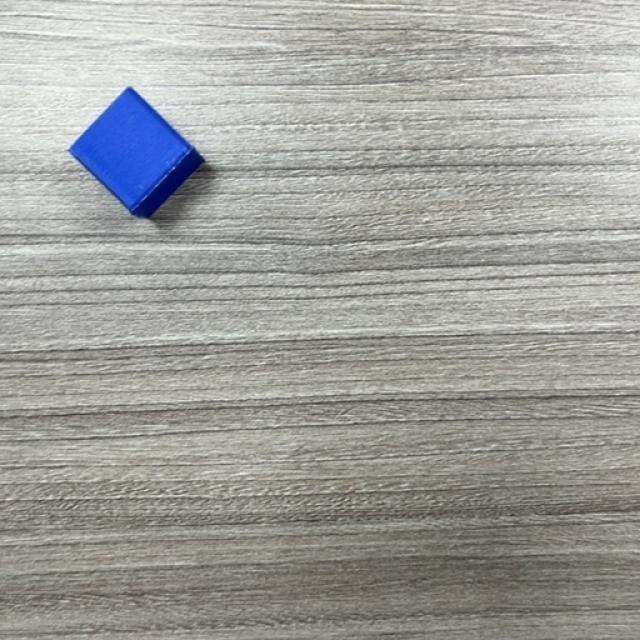Azul: (68, 88, 206, 221)
